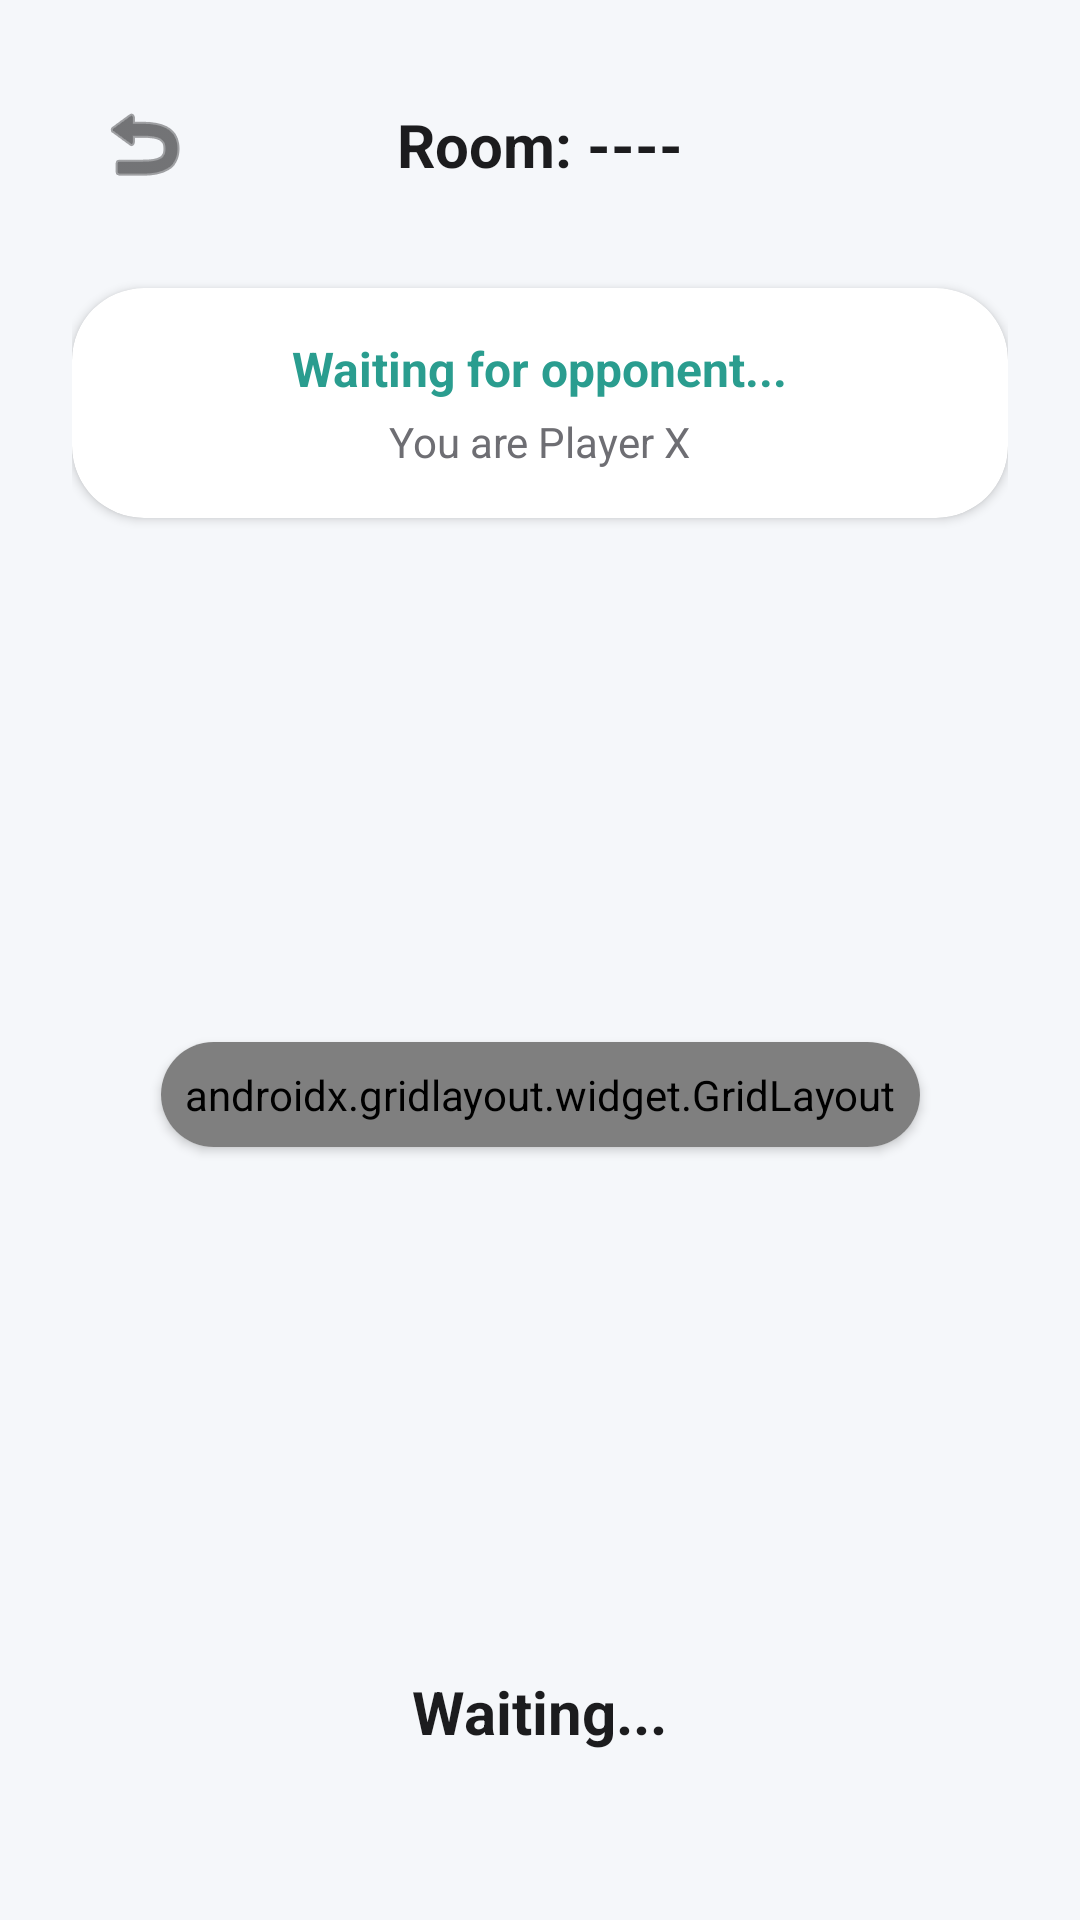

Icons on this 1080px×1920px Android screen, each with its box as bbox=(x1, y1, x2, y2):
revert: bbox=(111, 113, 180, 176)
